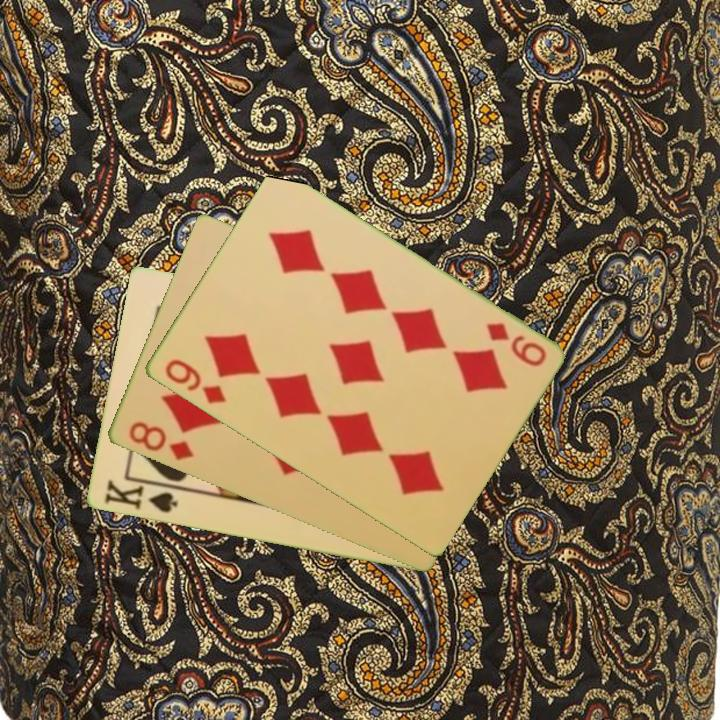8d: (124, 418, 196, 464)
9d: (160, 355, 229, 407), (482, 319, 549, 370)
Ks: (101, 476, 183, 516)
